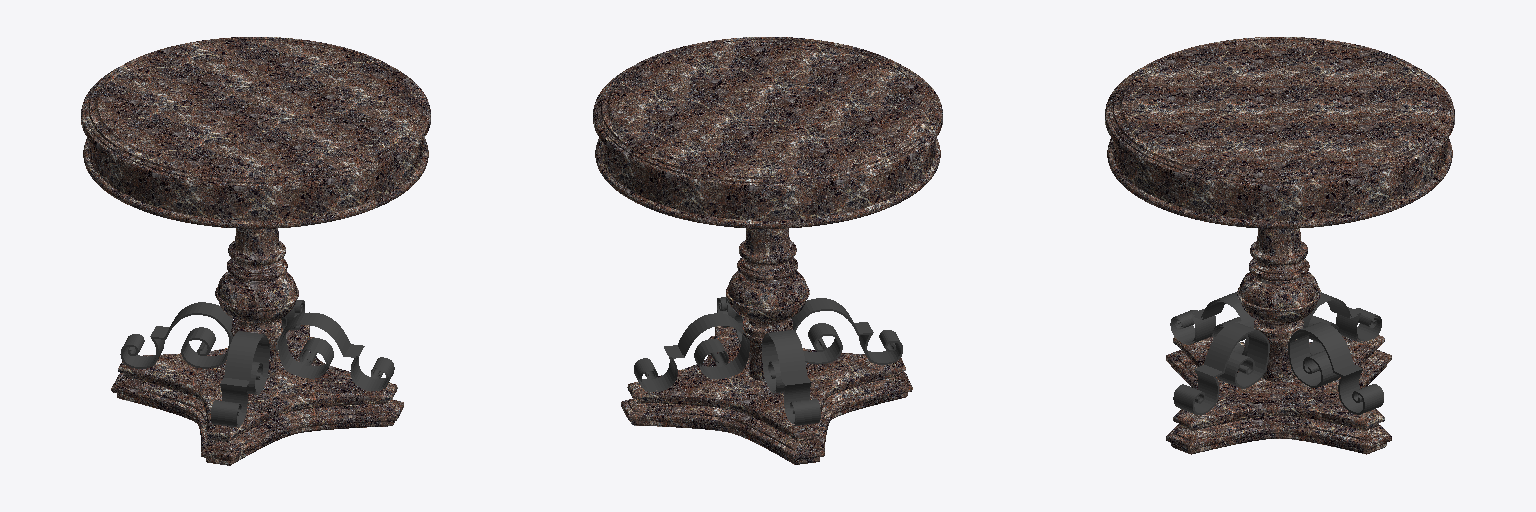
3 views of the same model, side by side, from view 1: azimuth 30°, elevation 25°; view 2: azimuth 150°, elevation 25°; view 3: azimuth 270°, elevation 25° (orthographic).
Parts seen in each view (by area): view 1: Rectangle002; view 2: Rectangle002; view 3: Rectangle002.
Part boxes in pixels (x1,y1,x2,y2): Rectangle002: (81, 37, 430, 465); Rectangle002: (593, 37, 942, 464); Rectangle002: (1105, 37, 1454, 454).
Size of the model in its own units: 3.82 by 3.65 by 3.82.
Materials: 2 (1 with a texture image).